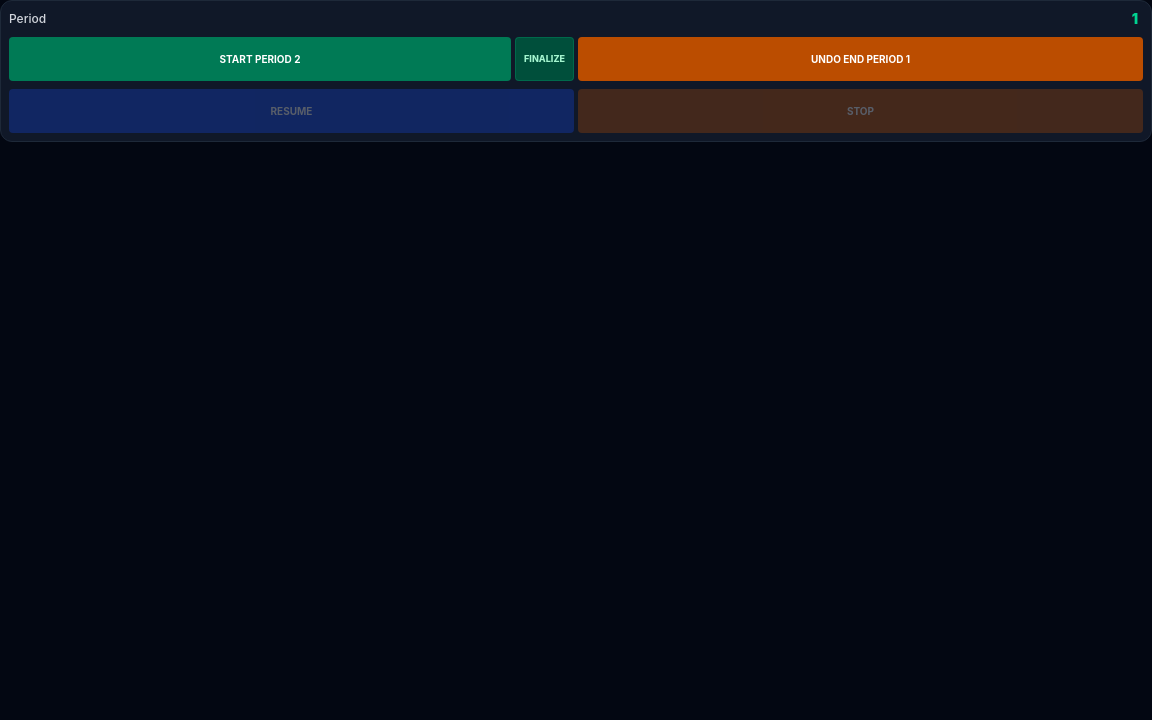
MatchLifecyclePanel Component Integration & State Machine › should render FINALIZE button alongside START PERIOD 2 and open MatchResultModal when clicked
The width and height of the screenshot is (1152, 720).
Click the button "FINALIZE" at (545, 59), box [515,37,574,81]
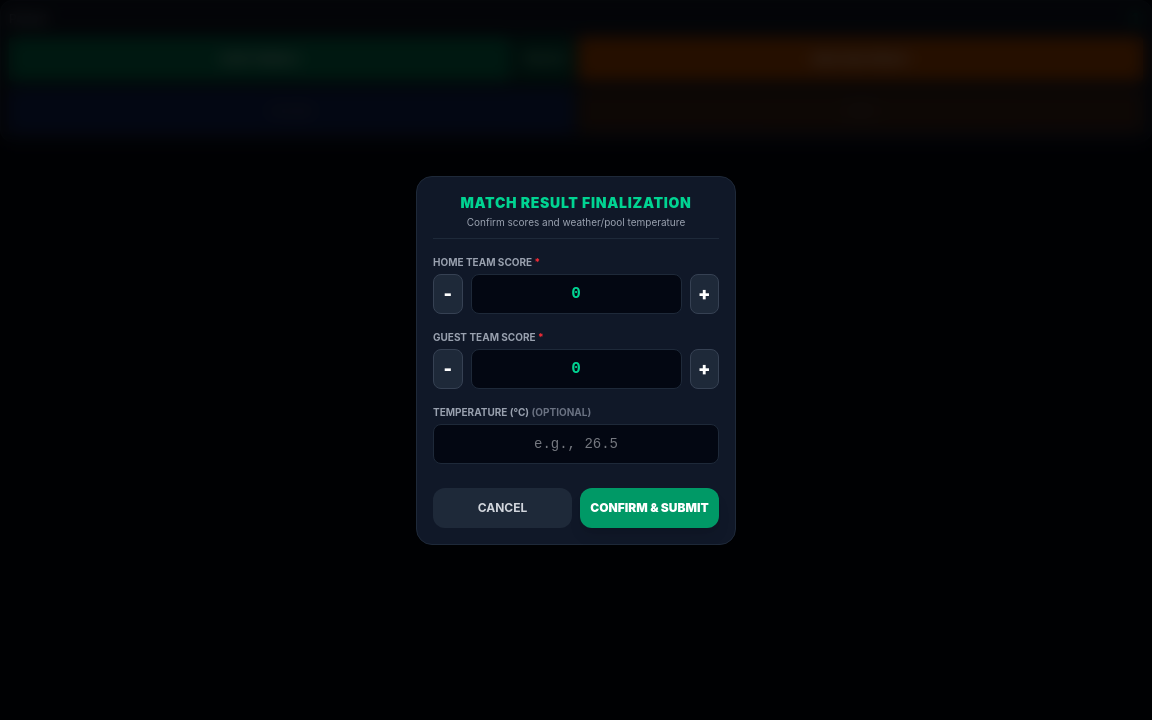
expect the dialog is shown: met
expect the heading "Match Result Finalization" is shown: met, box [460,194,692,210]
